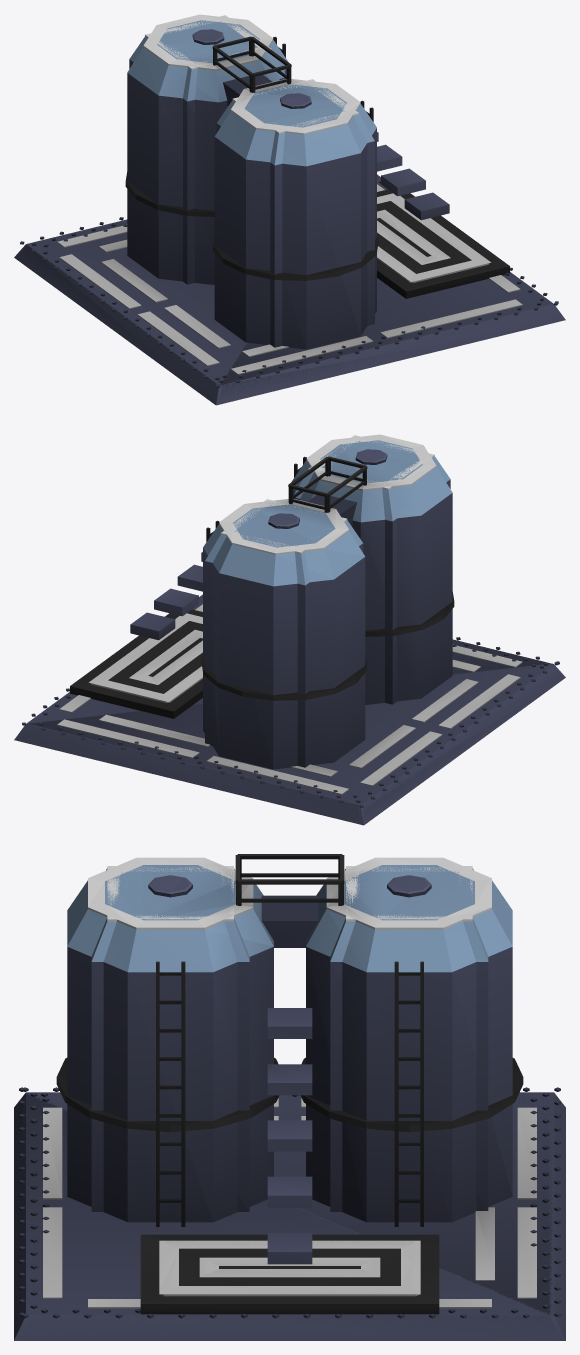
Rendered from veyran_ore_silo.glb.
3 views of the same model, one above another, from view 1: azimuth 30°, elevation 25°; view 2: azimuth 150°, elevation 25°; view 3: azimuth 270°, elevation 25° (orthographic). The views are drawn at different scales.
Parts seen in each view (by area): view 1: body (×3); view 2: body (×3); view 3: body (×3).
Part boxes in pixels (x1,y1,x2,y2): body (×3): [14, 14, 565, 405]; body (×3): [14, 434, 565, 825]; body (×3): [14, 854, 565, 1340].
Size of the model in its own units: 7.4 by 4.9 by 7.4.
